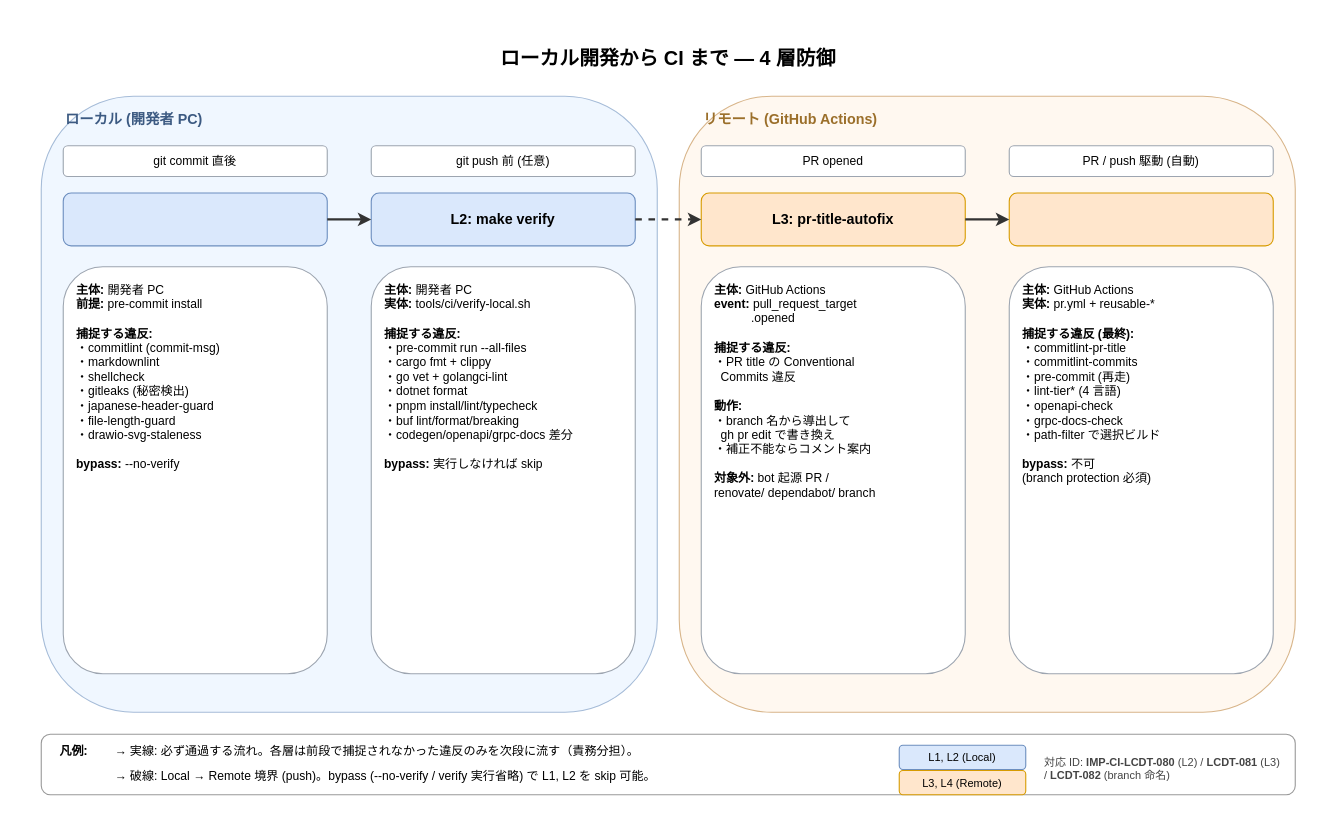
Image size: 1335x829. Some labels were removed from this diagram. Here are the shapes that lost their labels. From the top down, the box of each, then its label:
(62, 192, 327, 246): L1: pre-commit hooks
(1008, 192, 1273, 246): L4: CI lint / commitlint
